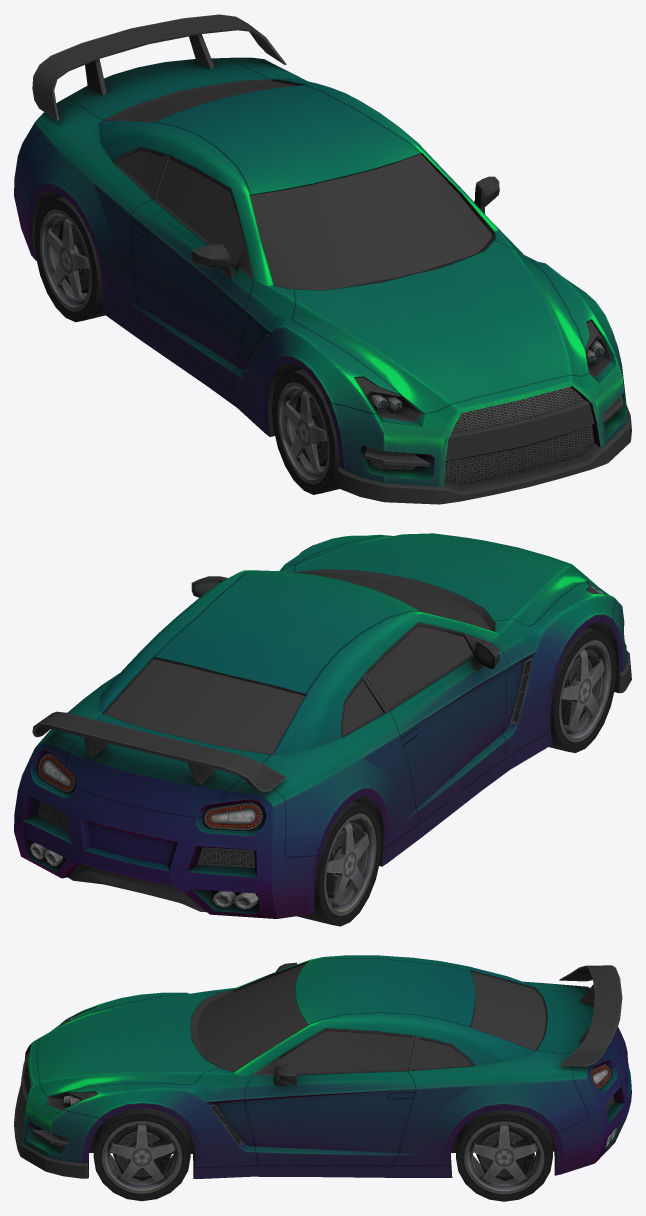
The model's file is car_7.FBX.
The picture shows the model from 3 angles, top to bottom: view 1: azimuth 30°, elevation 25°; view 2: azimuth 150°, elevation 25°; view 3: azimuth 270°, elevation 25°; orthographic projection. The views are drawn at different scales.
Parts seen in each view (by area): view 1: body_8, Matte_9, Wheel_Back_R, Wheel_R; view 2: body_8, Matte_9, Wheel_Back_R, Wheel_R; view 3: body_8, Matte_9, Wheel_L, Wheel_Back_L.
Part boxes in pixels (x1,y1,x2,y2): body_8: (14, 57, 627, 486); Matte_9: (32, 14, 631, 504); Wheel_Back_R: (34, 197, 105, 322); Wheel_R: (272, 369, 339, 494); body_8: (14, 533, 627, 918); Matte_9: (30, 569, 631, 912); Wheel_Back_R: (297, 801, 381, 926); Wheel_R: (549, 627, 616, 752); body_8: (22, 955, 631, 1178); Matte_9: (14, 961, 622, 1181); Wheel_L: (93, 1108, 190, 1201); Wheel_Back_L: (456, 1110, 552, 1201).
Bounding box in the file's own units: 2.01 × 1.37 × 4.62.
Materials: 2 (2 with a texture image).
